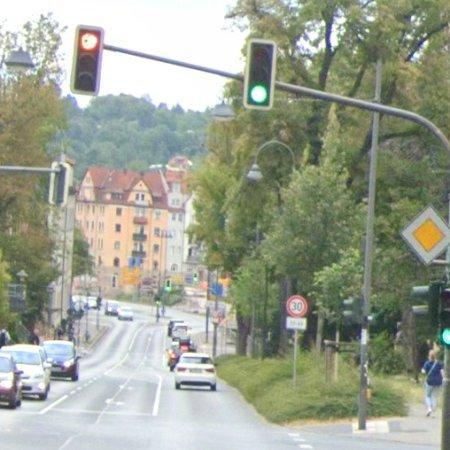traffic lights: (242, 39, 276, 111), (72, 24, 104, 95)
